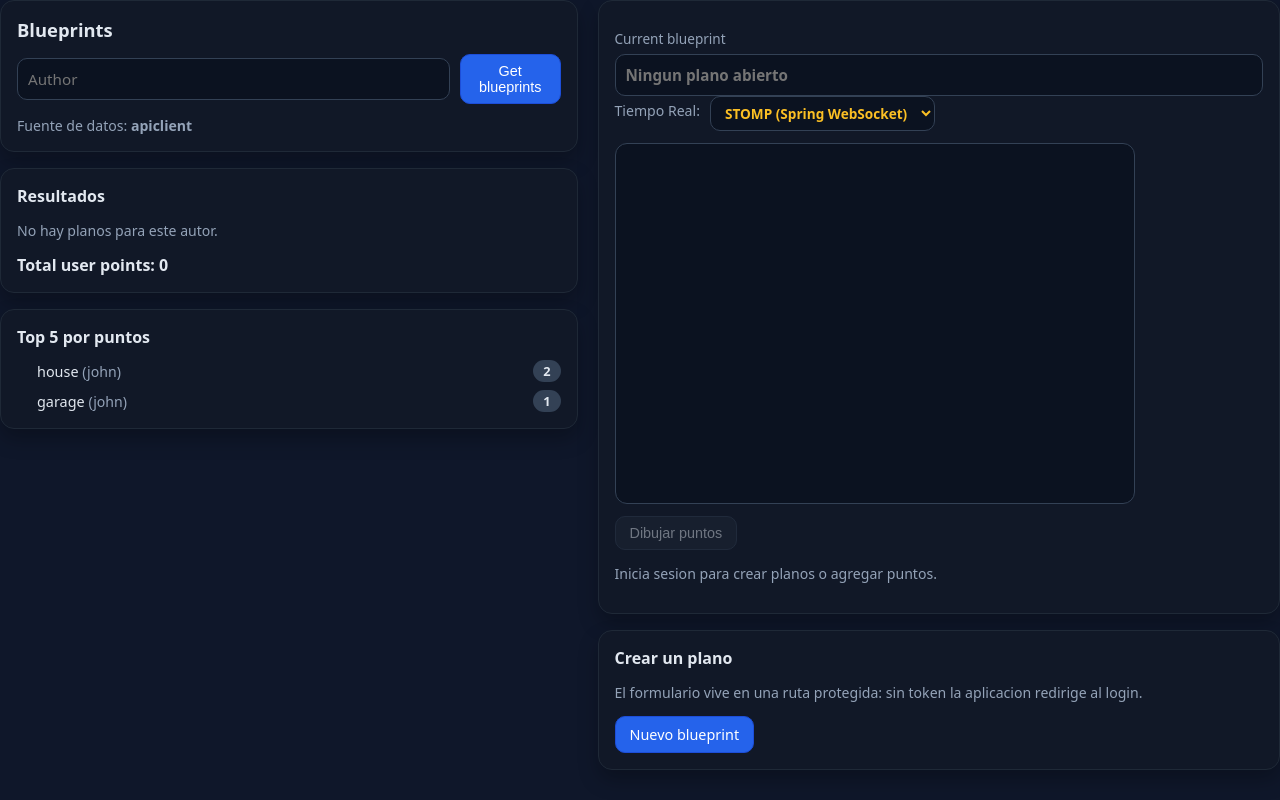
Test: BlueprintsPage › muestra la tabla con nombre, numero de puntos y boton Open
In the field with placeholder "Author": (233, 79) left=17, top=58, right=450, bottom=100, type "john"
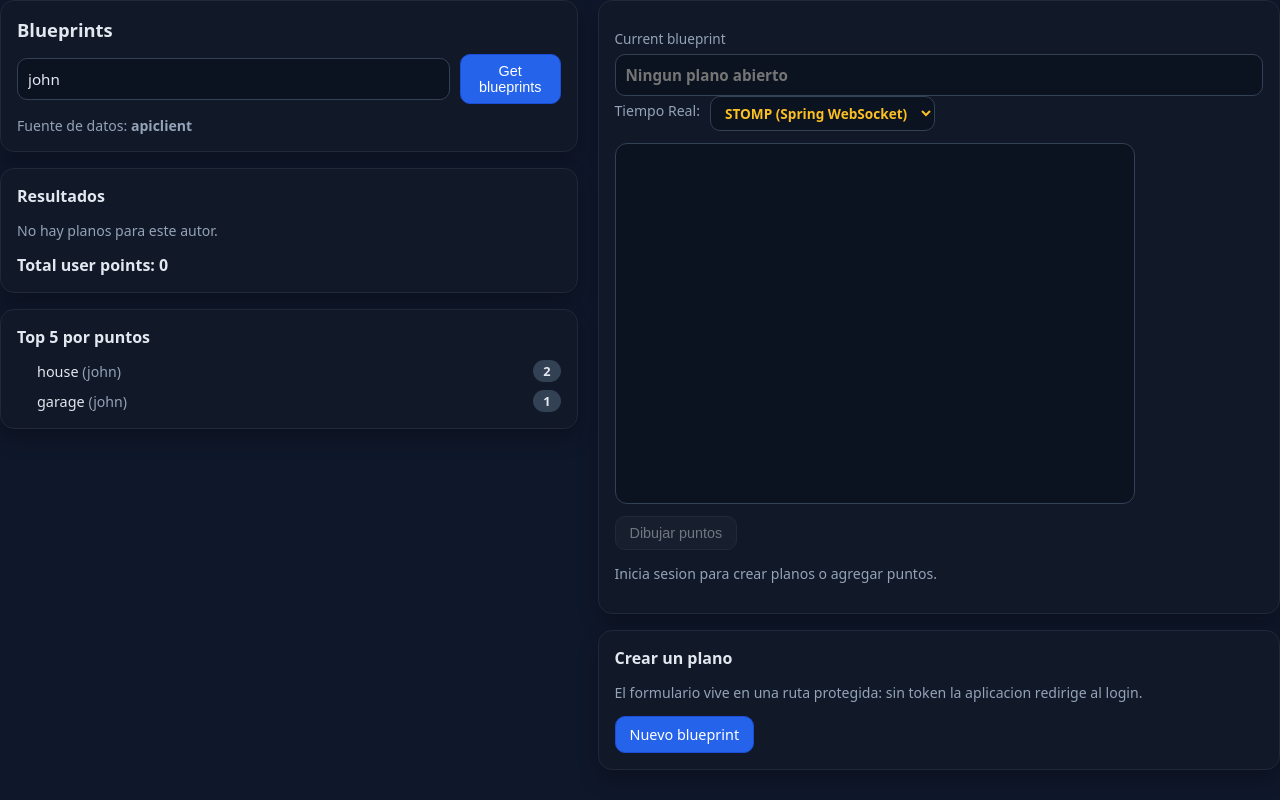
Click the button "Get blueprints": (510, 79) left=460, top=54, right=560, bottom=104
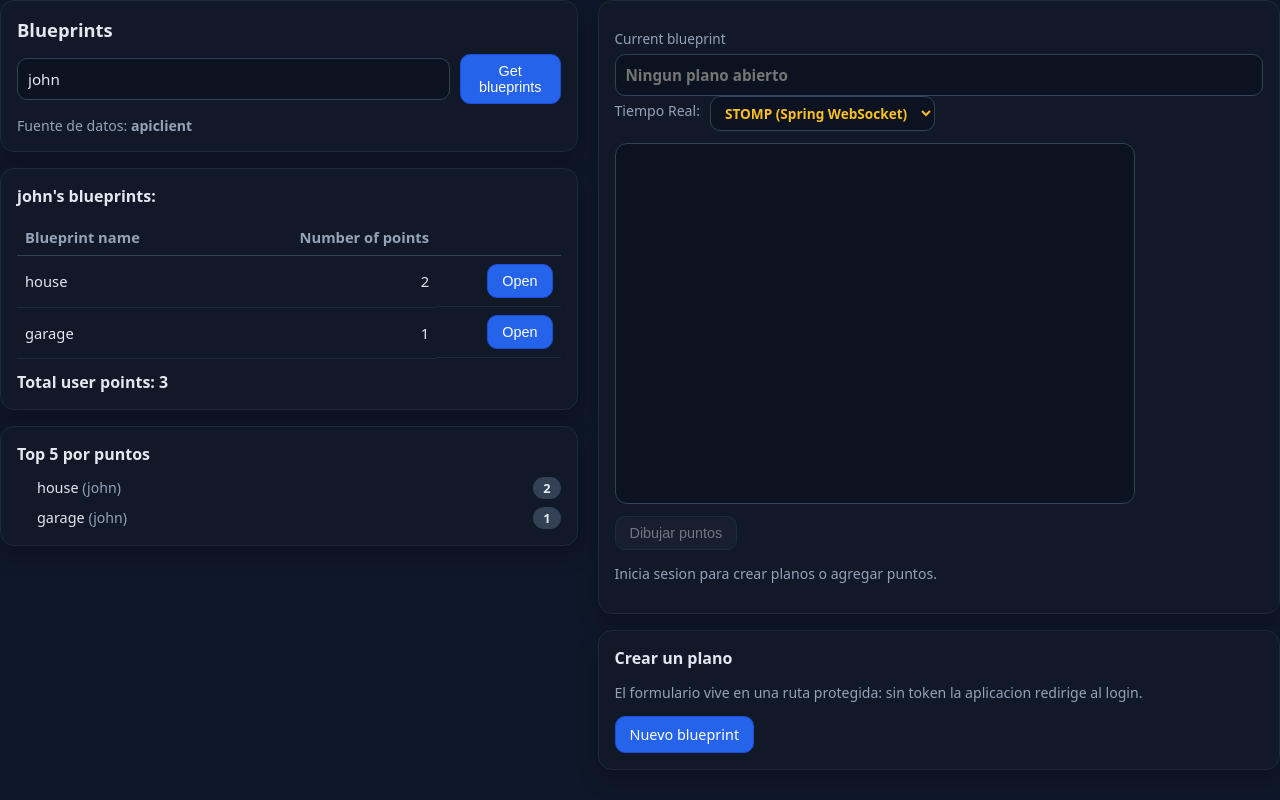
Expected: the heading "john's blueprints:" is shown, left=17, top=185, right=156, bottom=207
Expected: the column heading "Blueprint name" is shown, left=17, top=219, right=216, bottom=256
Expected: the column heading "Number of points" is shown, left=216, top=219, right=437, bottom=256
